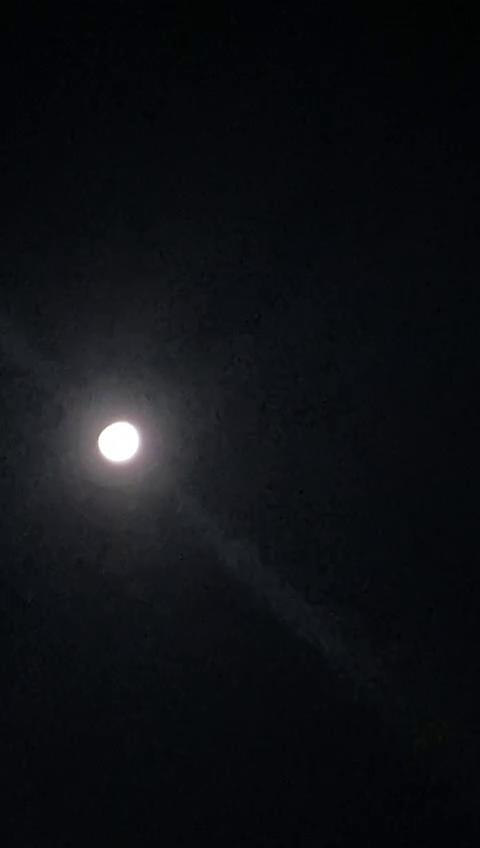moon: (84, 412, 152, 472)
